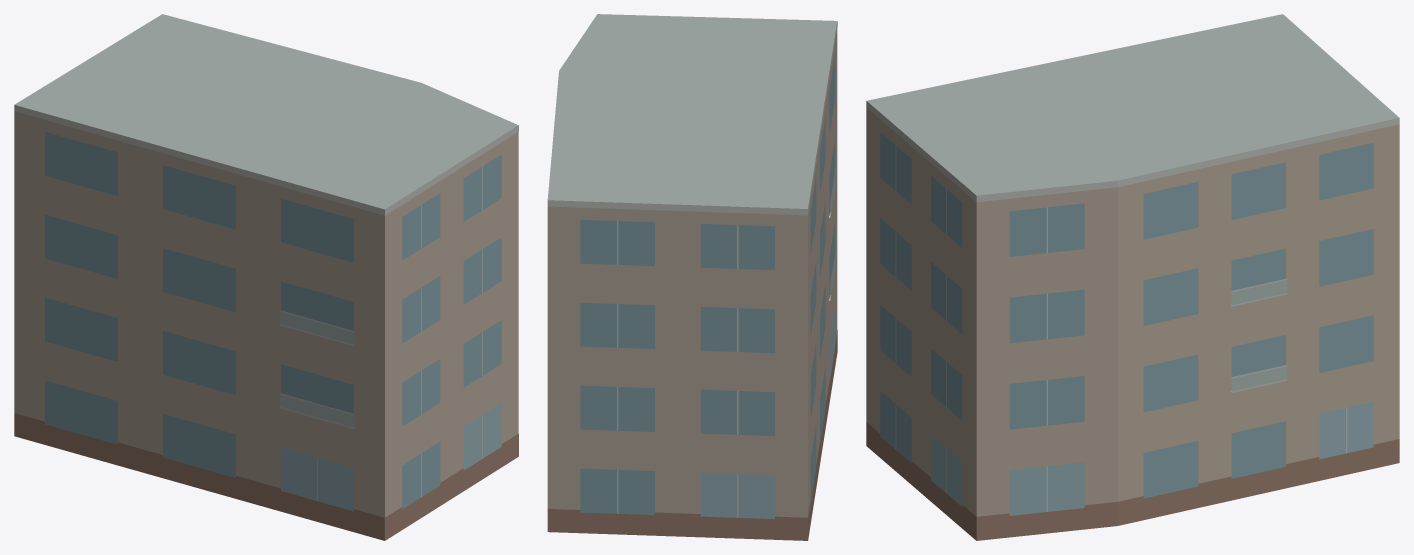
The model's file is survey-upis-32805422.glb.
3 views of the same model, side by side, from view 1: azimuth 30°, elevation 25°; view 2: azimuth 150°, elevation 25°; view 3: azimuth 270°, elevation 25° (orthographic). The views are drawn at different scales.
Parts seen in each view (by area): view 1: survey-upis-32805422.tmp; view 2: survey-upis-32805422.tmp; view 3: survey-upis-32805422.tmp.
Boxes of the visible parts, bbox=[...] form: survey-upis-32805422.tmp: bbox=[14, 14, 518, 540]; survey-upis-32805422.tmp: bbox=[547, 14, 837, 540]; survey-upis-32805422.tmp: bbox=[866, 14, 1399, 540].
Size of the model in its own units: 14.46 by 12.8 by 17.92.
